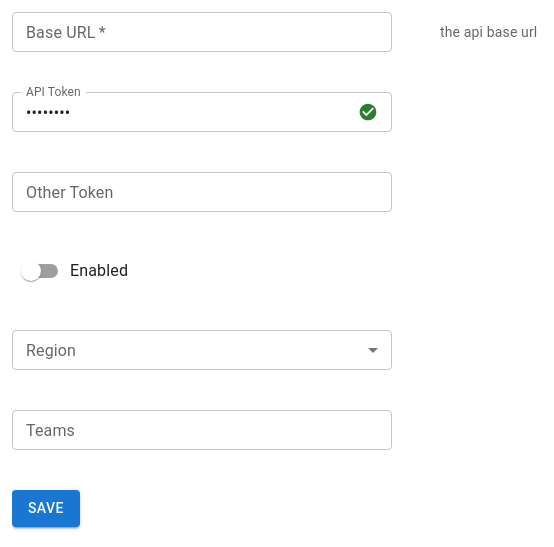
Test: SchemaForm › masks a set secret until focused, restores the mask when left untouched
Focus the password field labelled "API Token" at point(181, 112), box [12,92,350,132]
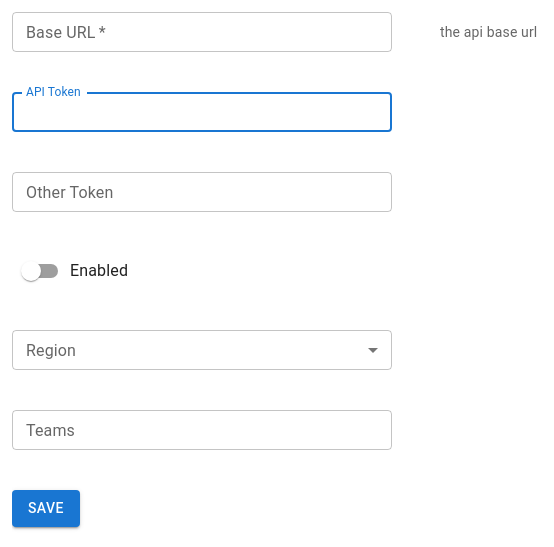
Expected: the password field labelled "API Token" is empty
Leave the password field labelled "API Token", box [12,92,392,132]
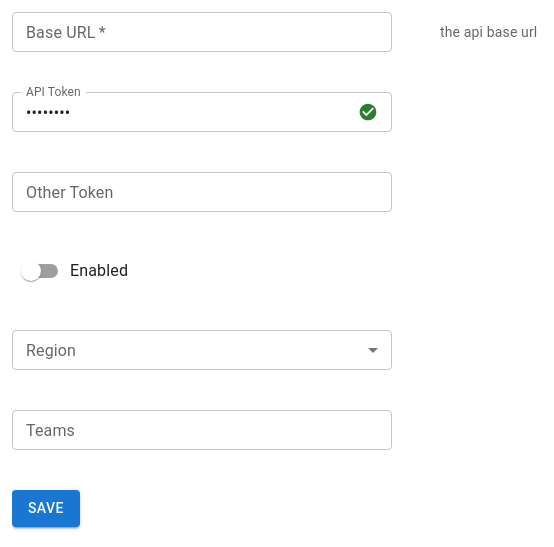
Expected: the password field labelled "API Token" holds "********", [12,92,350,132]
